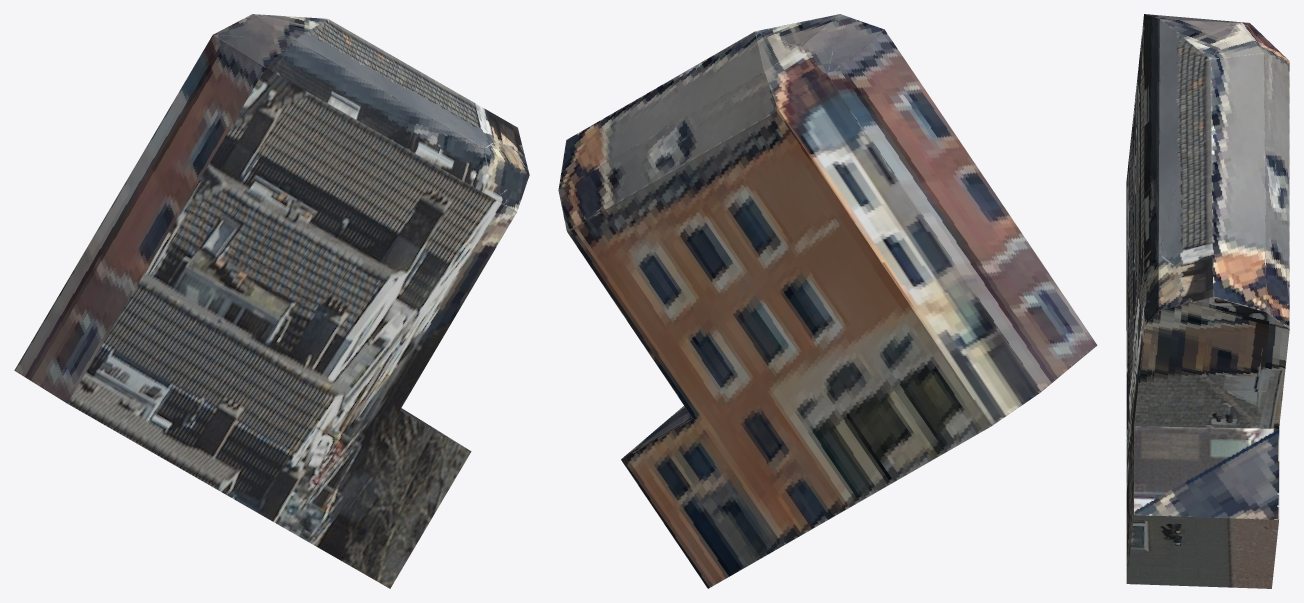
3 renders of one model, left to right at view 1: azimuth 30°, elevation 25°; view 2: azimuth 150°, elevation 25°; view 3: azimuth 270°, elevation 25°, orthographic. The views are drawn at different scales.
Visible parts, largest first — view 1: BAG_0599100000671675 (×4); view 2: BAG_0599100000671675 (×5); view 3: BAG_0599100000671675 (×5).
Boxes of the visible parts, left/top/right/bottom form: BAG_0599100000671675 (×4): left=14, top=14, right=529, bottom=588; BAG_0599100000671675 (×5): left=558, top=14, right=1097, bottom=588; BAG_0599100000671675 (×5): left=1126, top=14, right=1289, bottom=588.
Bounding box in the file's own units: 18.9 × 20.44 × 5.66.
5 materials, 5 textured.
